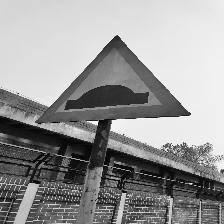Speed-breaker: (36, 36, 189, 122)
